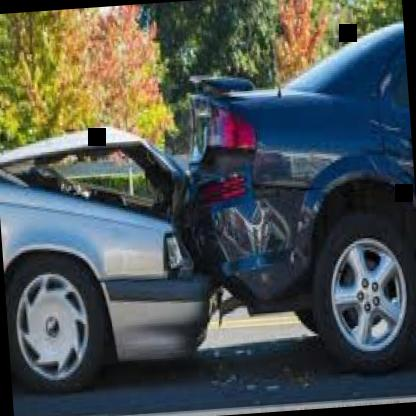accident: (1, 31, 357, 393)
